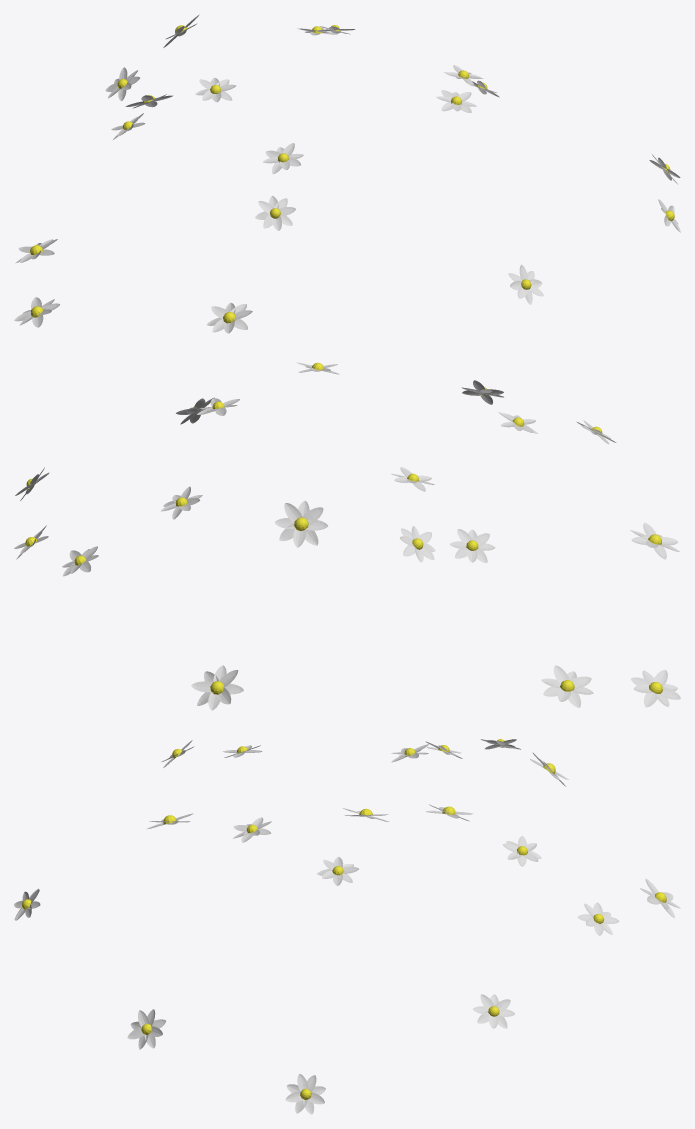
Rendered from เดซี่ขาว.fbx.
The picture shows the model from 3 angles, top to bottom: view 1: azimuth 30°, elevation 25°; view 2: azimuth 150°, elevation 25°; view 3: azimuth 270°, elevation 25°; orthographic projection. The views are drawn at different scales.
Parts seen in each view (by area): view 1: ระนาบ.016, ระนาบ.005, ระนาบ.001, ระนาบ.008, ระนาบ.007, ระนาบ.018, ระนาบ.012; view 2: ระนาบ.014, ระนาบ.017, ระนาบ.015, ระนาบ.018, ระนาบ.004, ระนาบ.011, ระนาบ.016; view 3: ระนาบ.002, ระนาบ.010, ระนาบ.009, ระนาบ.003, ระนาบ.006, ระนาบ.013.
Boxes of the visible parts, x1,y1,x2,y2 form: ระนาบ.016: (206,302,252,333); ระนาบ.005: (255,195,295,230); ระนาบ.001: (508,264,543,304); ระนาบ.008: (263,143,303,173); ระนาบ.007: (195,77,235,102); ระนาบ.018: (14,297,59,327); ระนาบ.012: (436,90,476,112); ระนาบ.014: (274,500,327,547); ระนาบ.017: (191,665,243,710); ระนาบ.015: (541,665,593,707); ระนาบ.018: (630,670,680,707); ระนาบ.004: (449,529,495,563); ระนาบ.011: (400,526,435,562); ระนาบ.016: (630,522,679,559); ระนาบ.002: (285,1073,325,1114); ระนาบ.010: (473,994,514,1028); ระนาบ.009: (127,1009,165,1049); ระนาบ.003: (577,902,619,935); ระนาบ.006: (317,856,358,885); ระนาบ.013: (502,836,541,866).
Bounding box in the file's own units: 237 × 65.35 × 213.
